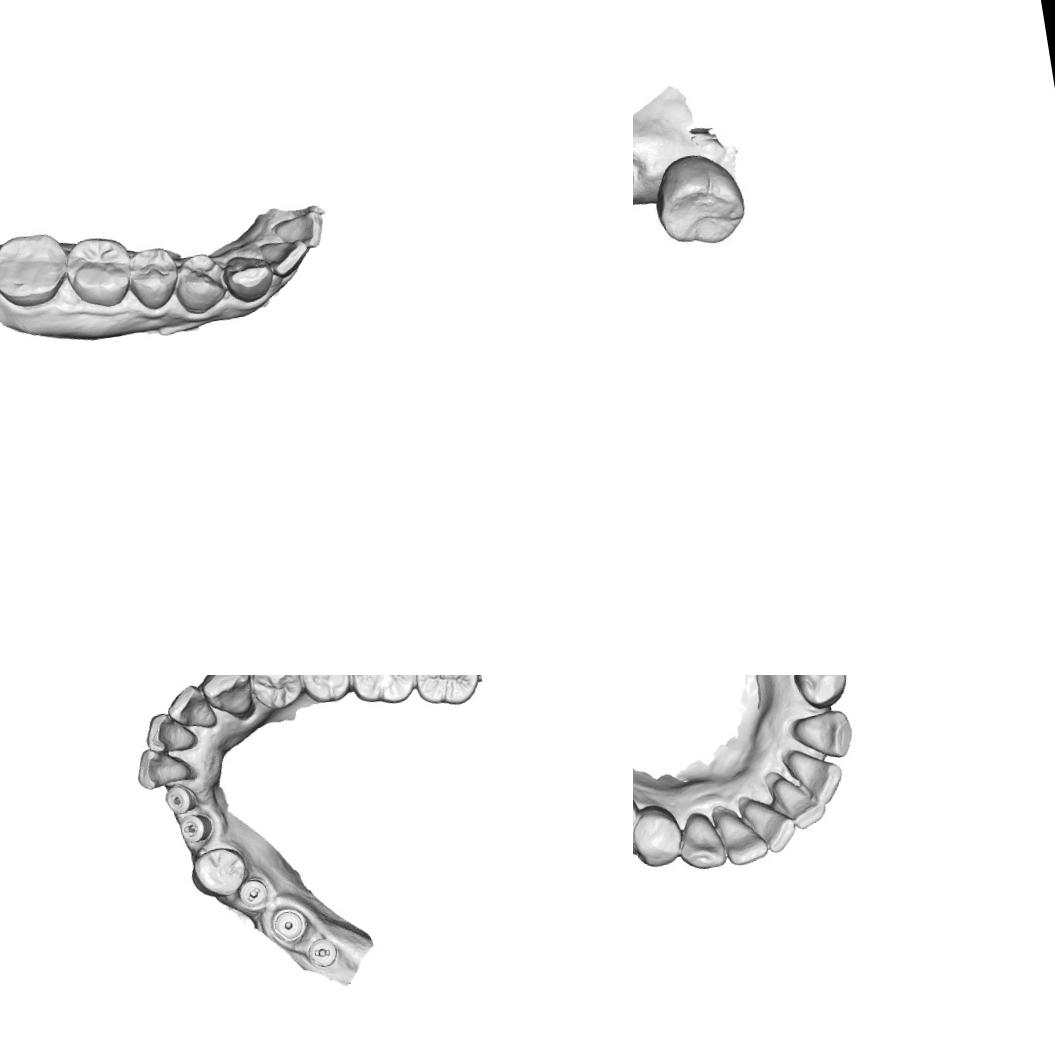canine: (218, 249, 280, 308), (792, 707, 857, 763), (674, 807, 728, 873), (197, 675, 257, 721)
implant: (268, 904, 310, 946)
implant_minus: (302, 934, 342, 973), (162, 781, 198, 817), (236, 875, 270, 912)
implant_plus: (176, 810, 214, 846)
incisor: (785, 744, 848, 810), (772, 774, 830, 834), (162, 680, 220, 734), (746, 800, 800, 858), (132, 742, 194, 792), (140, 707, 200, 757), (269, 207, 330, 255), (718, 813, 770, 868), (256, 235, 312, 282)
molar: (653, 148, 747, 250), (60, 229, 139, 315), (0, 227, 74, 314), (344, 675, 422, 711), (408, 675, 484, 711)
premolar: (171, 247, 231, 318), (124, 242, 182, 313), (187, 843, 252, 902), (633, 801, 685, 870), (789, 675, 852, 713), (245, 675, 306, 714), (295, 675, 354, 706)
